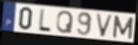0: (18, 7, 34, 31)
9: (77, 12, 92, 37)
L: (37, 8, 52, 34)
M: (111, 15, 135, 41)
Q: (56, 10, 75, 35)
V: (95, 13, 115, 39)
